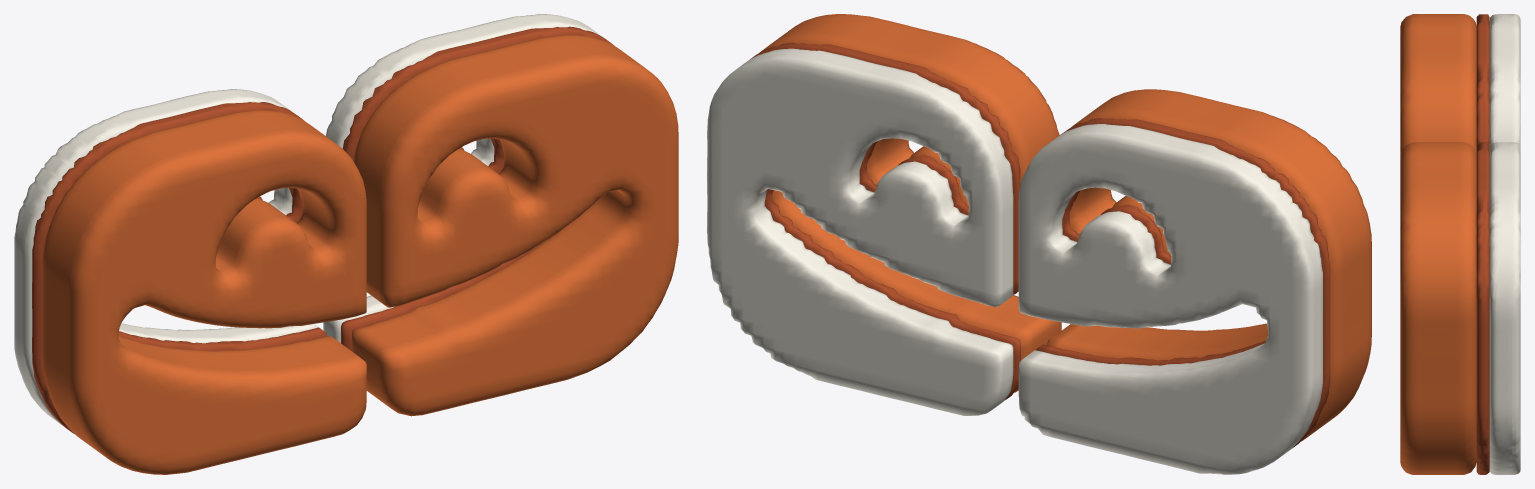
Rendered from ee-soft-keys.glb.
The picture shows the model from 3 angles, left to right: view 1: azimuth 30°, elevation 25°; view 2: azimuth 150°, elevation 25°; view 3: azimuth 270°, elevation 25°; orthographic projection. The views are drawn at different scales.
Visible parts, largest first — view 1: 2-secondary-beveled-glyph, 1-secondary-beveled-glyph, 1-paper-beveled-glyph, 1-accent-beveled-glyph, 2-paper-beveled-glyph, 2-accent-beveled-glyph; view 2: 2-paper-beveled-glyph, 1-paper-beveled-glyph, 1-secondary-beveled-glyph, 2-secondary-beveled-glyph, 2-accent-beveled-glyph, 1-accent-beveled-glyph; view 3: 2-secondary-beveled-glyph, 2-paper-beveled-glyph, 1-secondary-beveled-glyph, 2-accent-beveled-glyph, 1-paper-beveled-glyph, 1-accent-beveled-glyph.
Part boxes in pixels (x1=…): 2-secondary-beveled-glyph: x1=352, y1=35, x2=678, y2=416; 1-secondary-beveled-glyph: x1=42, y1=110, x2=366, y2=474; 1-paper-beveled-glyph: x1=14, y1=89, x2=318, y2=426; 1-accent-beveled-glyph: x1=32, y1=102, x2=326, y2=433; 2-paper-beveled-glyph: x1=323, y1=14, x2=602, y2=342; 2-accent-beveled-glyph: x1=341, y1=26, x2=614, y2=350; 2-paper-beveled-glyph: x1=707, y1=48, x2=1013, y2=415; 1-paper-beveled-glyph: x1=1018, y1=124, x2=1322, y2=474; 1-secondary-beveled-glyph: x1=1047, y1=89, x2=1371, y2=441; 2-secondary-beveled-glyph: x1=759, y1=14, x2=1061, y2=392; 2-accent-beveled-glyph: x1=750, y1=42, x2=1020, y2=400; 1-accent-beveled-glyph: x1=1036, y1=118, x2=1330, y2=448; 2-secondary-beveled-glyph: x1=1400, y1=142, x2=1476, y2=474; 2-paper-beveled-glyph: x1=1489, y1=142, x2=1520, y2=474; 1-secondary-beveled-glyph: x1=1400, y1=14, x2=1476, y2=152; 2-accent-beveled-glyph: x1=1476, y1=142, x2=1489, y2=474; 1-paper-beveled-glyph: x1=1489, y1=14, x2=1520, y2=147; 1-accent-beveled-glyph: x1=1476, y1=14, x2=1489, y2=147.
Size of the model in its own units: 2 by 1 by 0.395.
